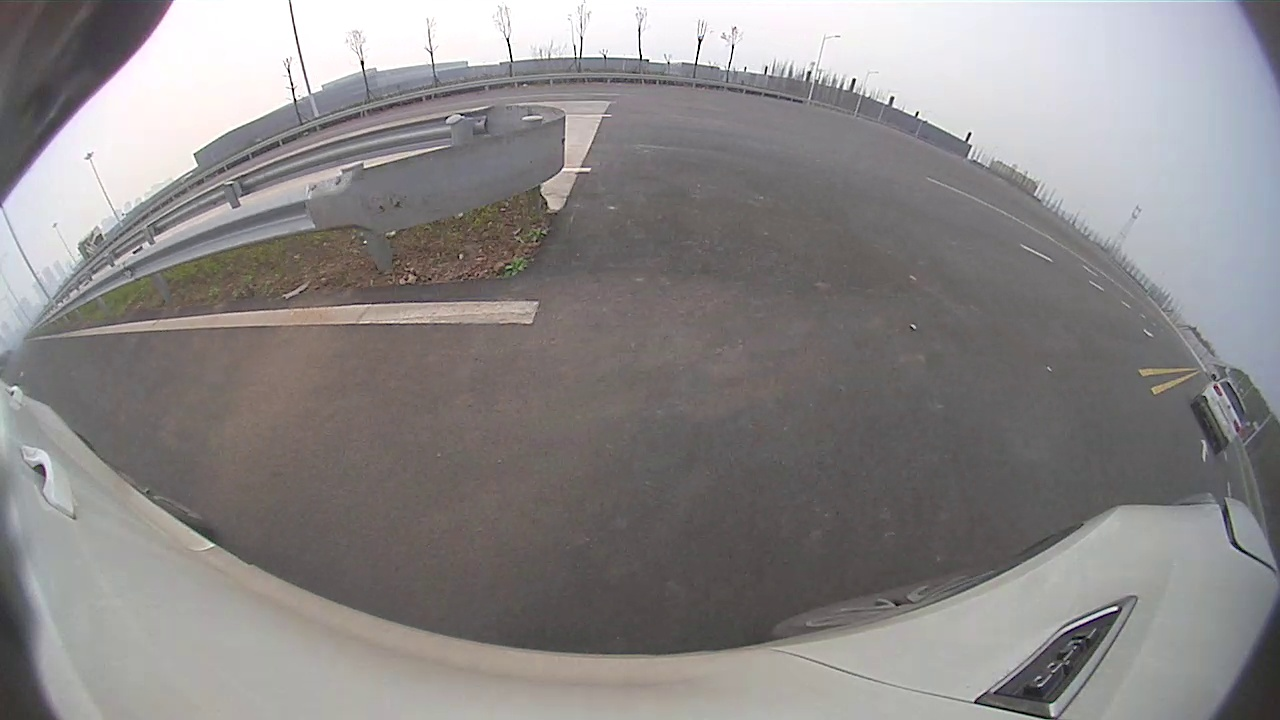car: (1189, 373, 1246, 454)
